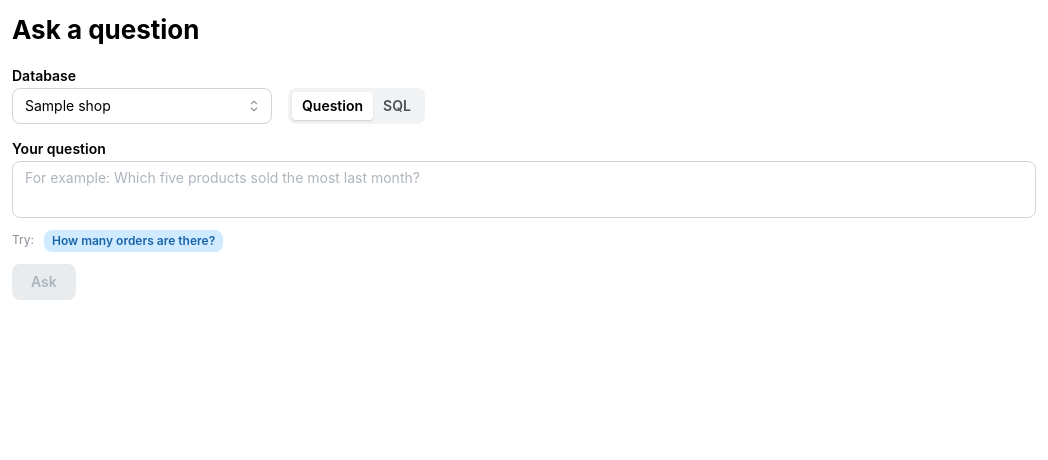
Scenario: AskPage › shows a query refused for safety, with the check that refused it
The width and height of the screenshot is (1048, 460).
Type "Delete every order" into the text box labelled "Your question" at point(524, 189), box [12,161,1036,218]
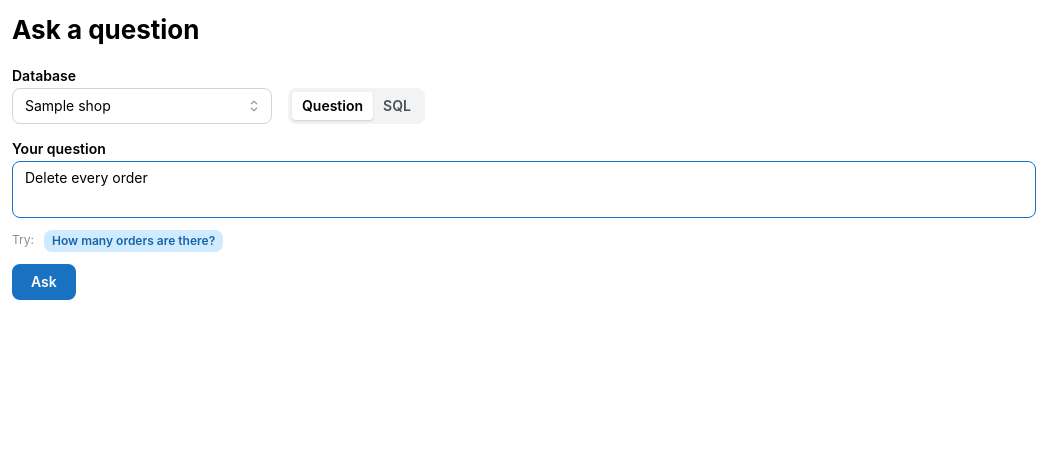
Click the button "Ask" at point(44, 282), box [12,264,76,300]
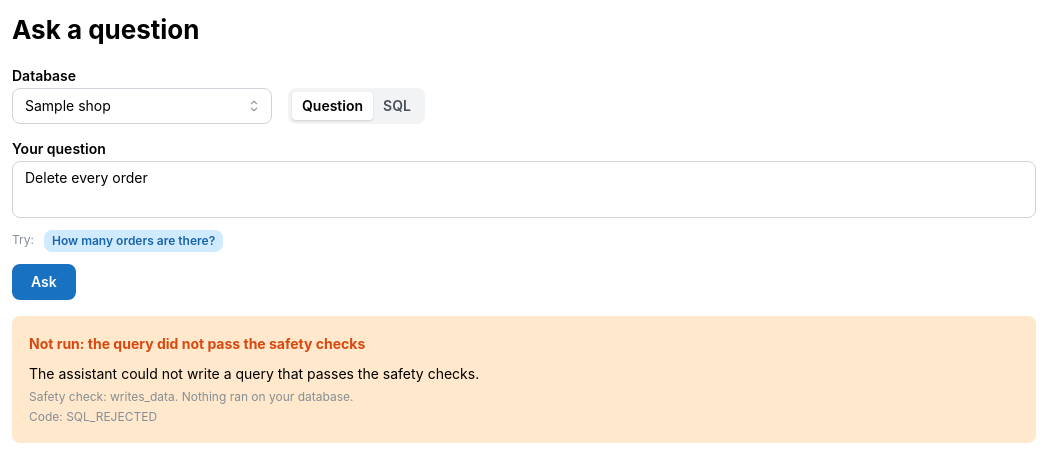
Now the text "Not run: the query did not pass the safety checks" is shown, box [29,333,365,354]
Now the text "Safety check: writes_data. Nothing ran on your database." is shown, box [29,389,354,404]
